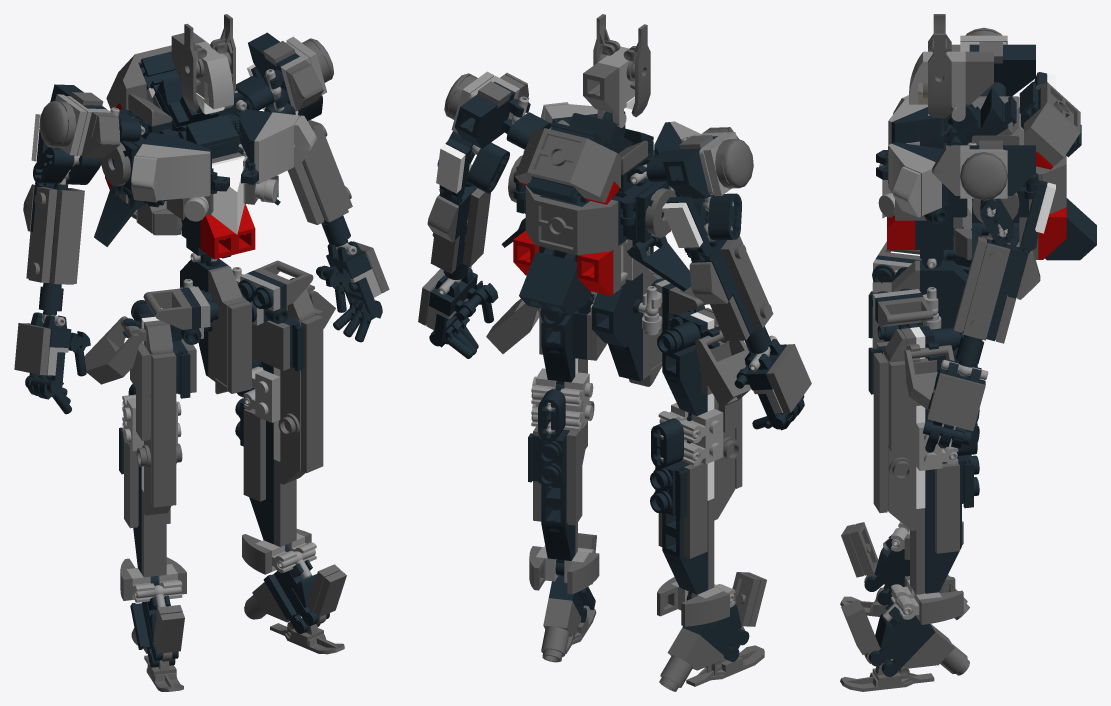
Rendered from sap-01g-sentinel.dae.
The picture shows the model from 3 angles, left to right: view 1: azimuth 30°, elevation 25°; view 2: azimuth 150°, elevation 25°; view 3: azimuth 270°, elevation 25°; orthographic projection. The views are drawn at different scales.
Bounding box in the file's own units: 349 × 217 × 582.
